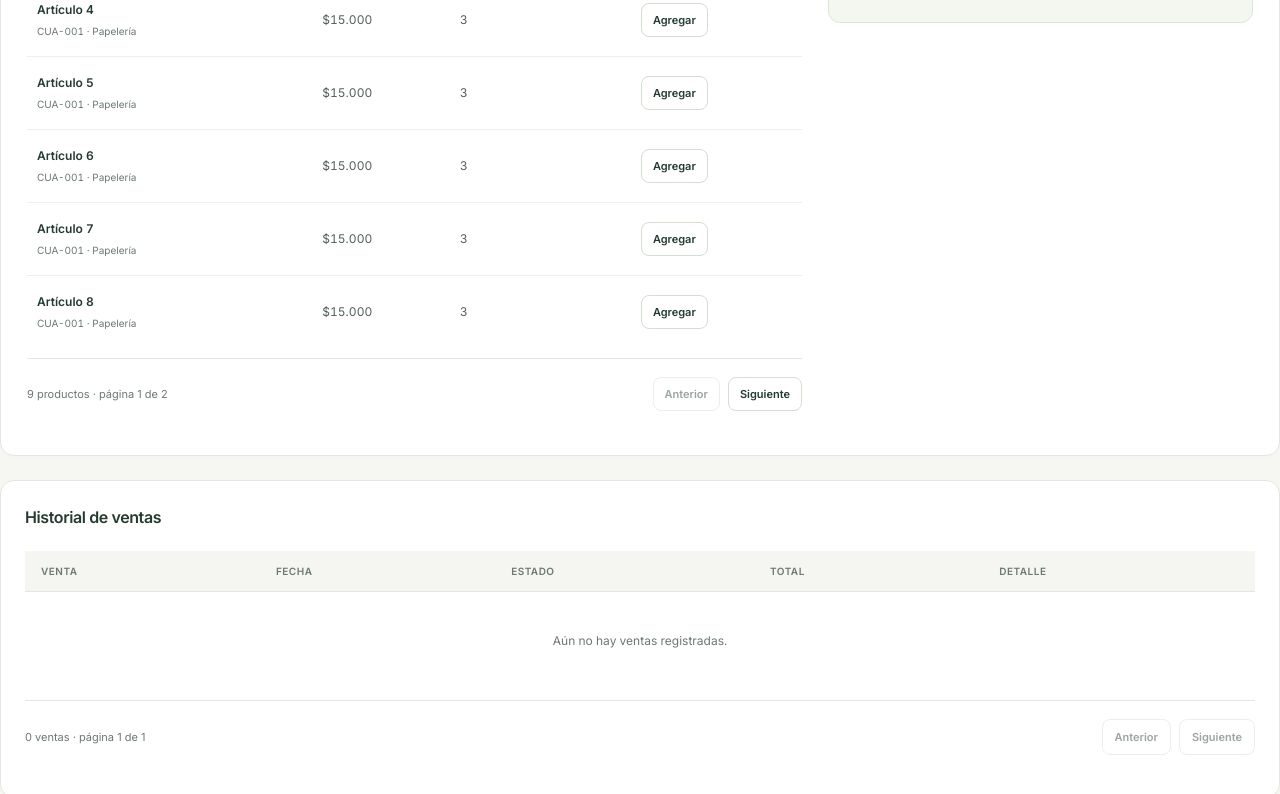
Test: catálogo pagina ocho productos y reinicia al buscar
(page scrolled)
Click the button "Siguiente" in the row of "productos · página": (765, 394) [728,377,802,411]
(page scrolled)
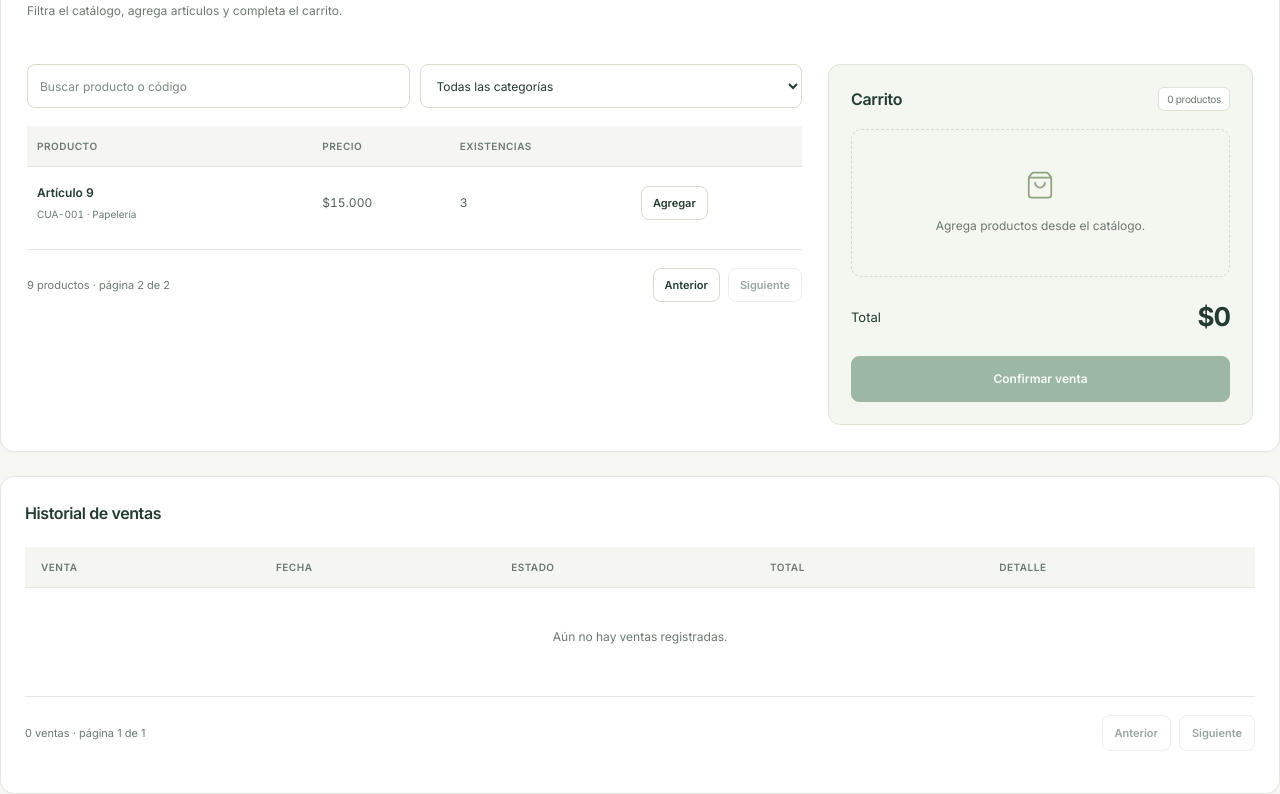
Expected: the text "Artículo 9" is shown, [37,185,94,200]
In the search field: (218, 86) [27,64,410,108], type "Artículo 1"
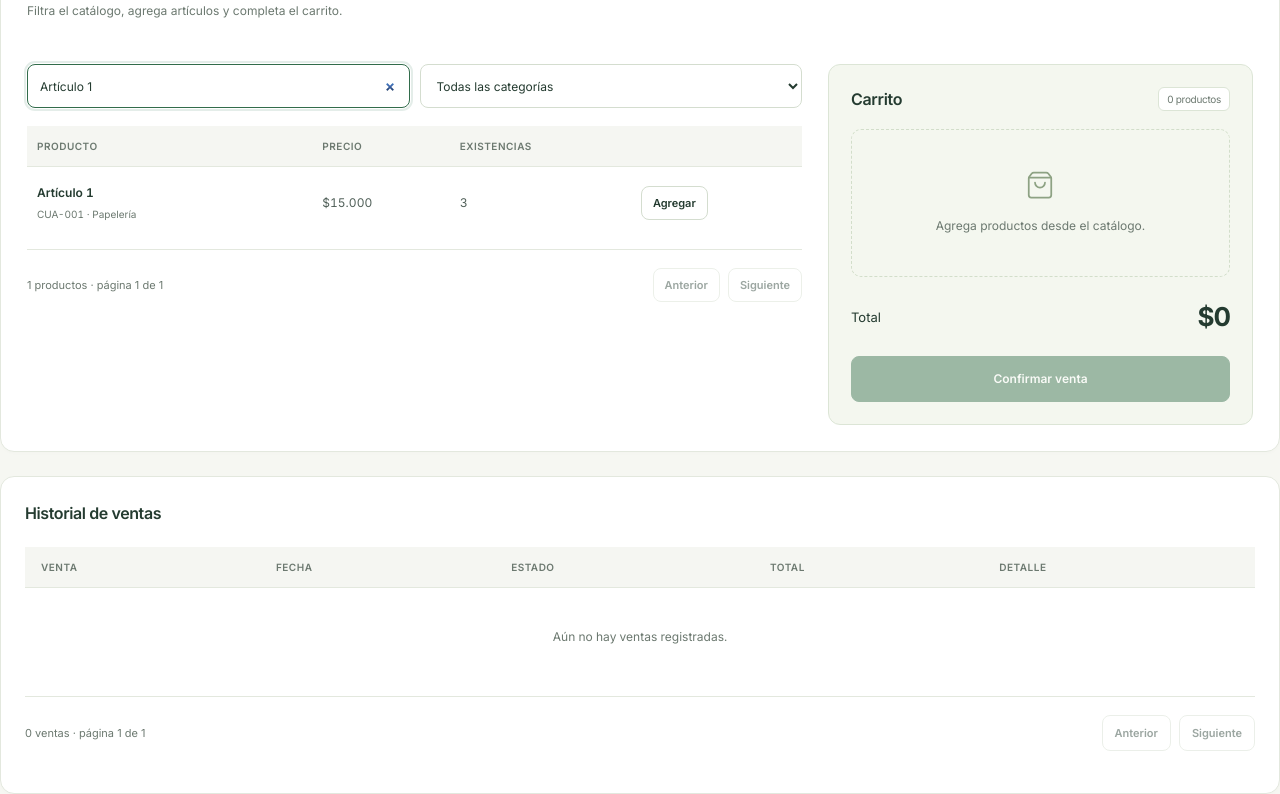
Expected: the text "Artículo 1" is shown, [37,185,94,200]
